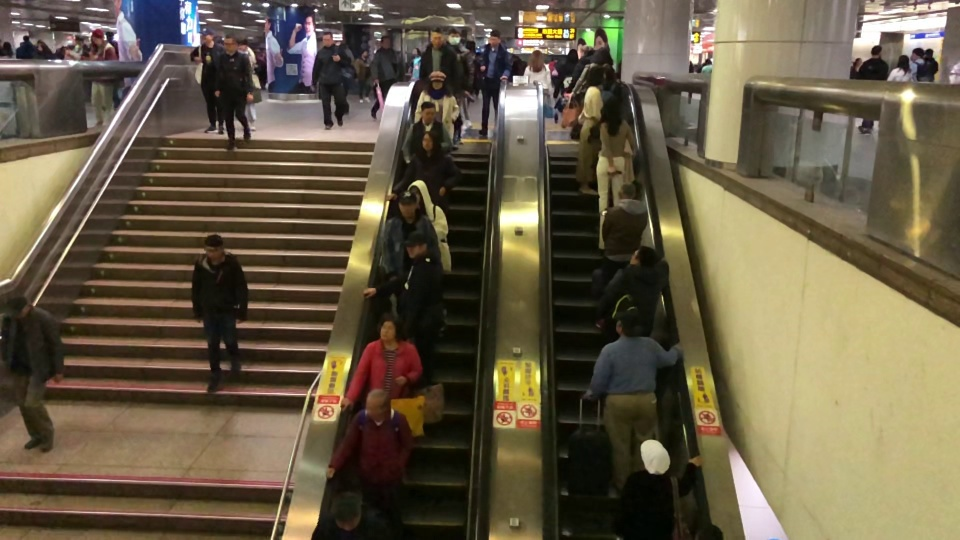person_head: (335, 496, 361, 527), (365, 388, 390, 417), (645, 447, 671, 473), (612, 314, 642, 336), (376, 314, 401, 340), (629, 245, 657, 265), (203, 234, 224, 260), (4, 295, 30, 316), (398, 193, 417, 218), (601, 98, 620, 119), (406, 238, 426, 257), (420, 100, 436, 122), (586, 65, 603, 83), (617, 181, 635, 198), (594, 47, 613, 63), (223, 32, 238, 52), (420, 130, 436, 148), (430, 26, 443, 45), (447, 28, 462, 44), (430, 73, 445, 89), (530, 49, 544, 65), (897, 53, 911, 69), (410, 186, 422, 203), (489, 29, 501, 45), (92, 29, 104, 44), (201, 30, 214, 43), (322, 31, 334, 45), (870, 44, 882, 57), (911, 48, 923, 60), (238, 37, 248, 51), (566, 48, 578, 59), (380, 35, 391, 46), (583, 46, 594, 55), (605, 69, 615, 78), (74, 37, 83, 46), (4, 41, 11, 50), (37, 41, 44, 49), (412, 47, 419, 55), (362, 49, 369, 56), (704, 57, 711, 64), (22, 35, 29, 41)
person_vbox: (584, 313, 684, 493), (327, 388, 416, 523), (1, 295, 66, 451), (191, 234, 249, 395), (610, 446, 705, 540), (362, 238, 444, 344), (340, 314, 423, 414), (594, 181, 647, 331), (594, 98, 636, 251), (597, 245, 668, 330), (409, 185, 452, 314), (385, 130, 460, 202), (65, 29, 117, 129), (213, 32, 254, 154), (379, 194, 440, 275), (311, 31, 351, 131), (572, 65, 602, 195), (189, 30, 224, 134), (479, 28, 512, 138), (313, 496, 385, 540), (401, 100, 452, 162), (421, 26, 466, 95), (415, 73, 459, 141), (857, 44, 886, 137), (369, 34, 398, 118), (237, 37, 262, 132), (572, 47, 614, 94), (447, 27, 474, 95), (552, 48, 578, 100), (568, 45, 594, 95), (524, 49, 552, 90), (354, 48, 372, 103), (600, 68, 627, 102), (909, 48, 934, 81), (887, 54, 912, 82), (15, 35, 34, 59), (407, 46, 420, 78), (71, 36, 86, 55), (33, 40, 45, 58), (698, 57, 711, 72)
